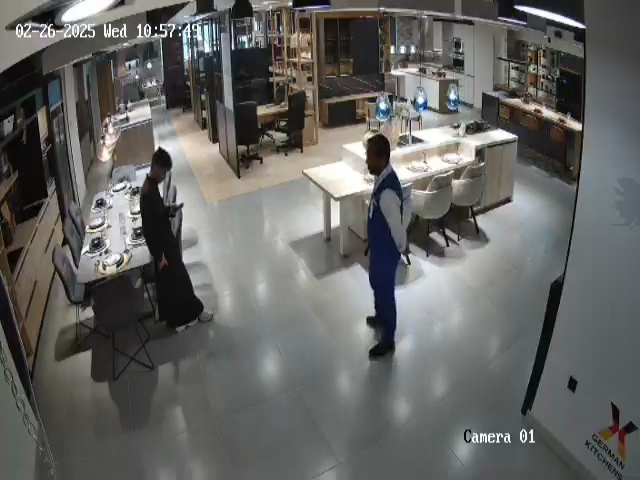employee: (363, 133, 411, 359)
male: (140, 147, 214, 334)
